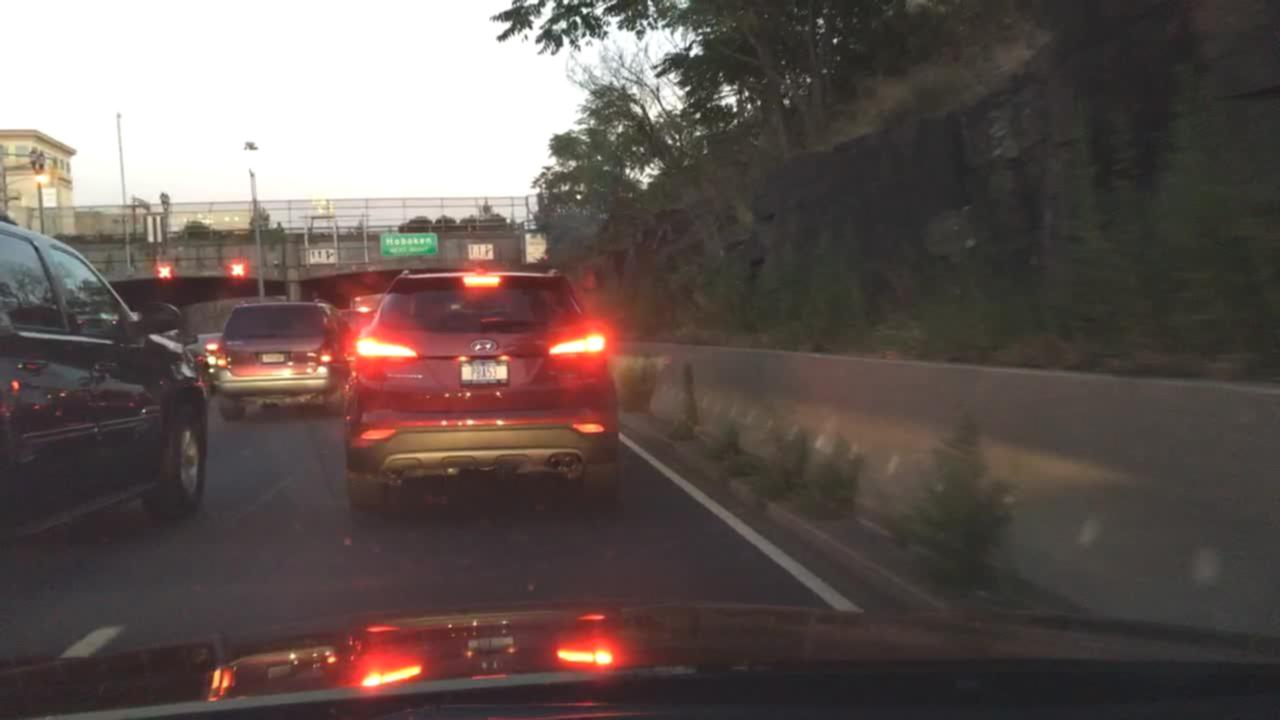Hyundai: (469, 338, 502, 355)
